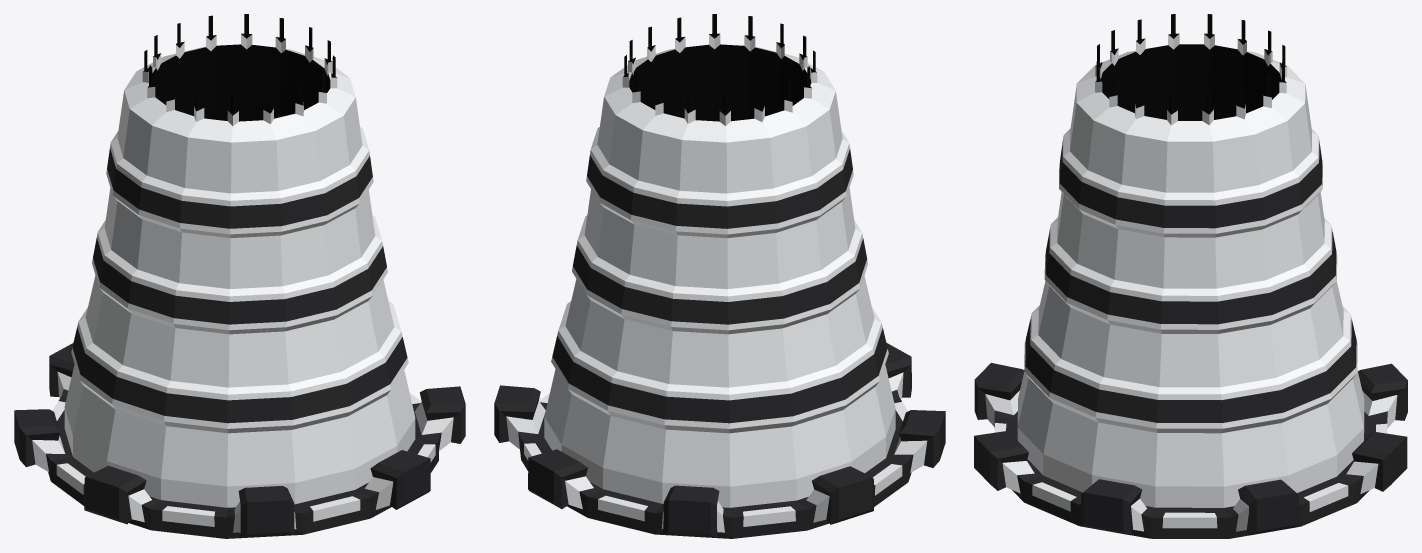
The model's file is coolingtower.glb.
The picture shows the model from 3 angles, left to right: view 1: azimuth 30°, elevation 25°; view 2: azimuth 150°, elevation 25°; view 3: azimuth 270°, elevation 25°; orthographic projection.
Parts seen in each view (by area): view 1: AtomicCoolingTower_Body, AtomicCoolingTower_Foundation; view 2: AtomicCoolingTower_Body, AtomicCoolingTower_Foundation; view 3: AtomicCoolingTower_Body, AtomicCoolingTower_Foundation.
Part boxes in pixels (x1,y1,x2,y2): AtomicCoolingTower_Body: (64, 14, 415, 507); AtomicCoolingTower_Foundation: (14, 343, 465, 538); AtomicCoolingTower_Body: (544, 14, 895, 507); AtomicCoolingTower_Foundation: (494, 343, 945, 538); AtomicCoolingTower_Body: (1017, 14, 1364, 507); AtomicCoolingTower_Foundation: (974, 363, 1407, 538).
Size of the model in its own units: 3687 by 3778 by 3687.
1 material, 1 textured.
